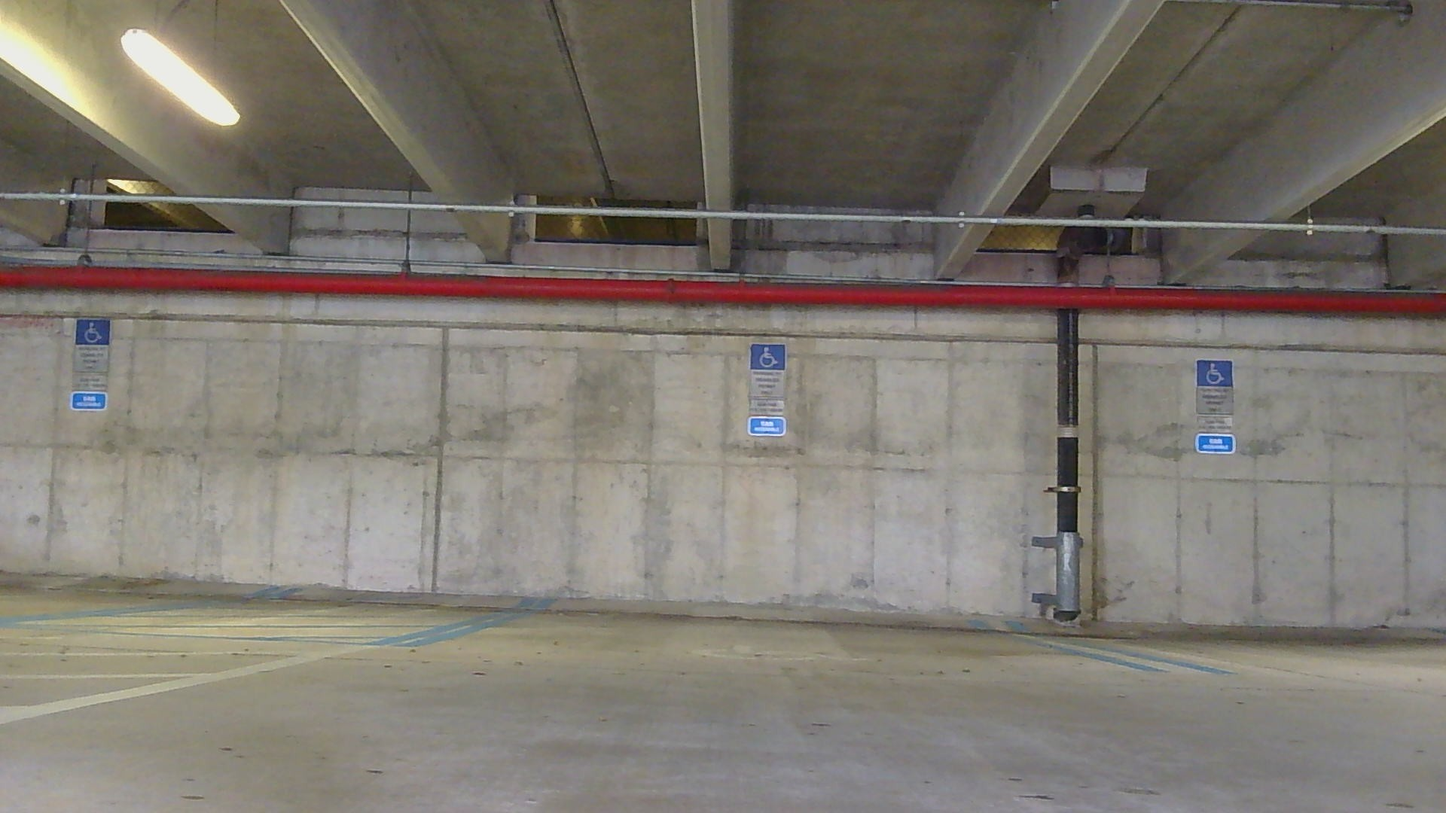empty_spot: (409, 524, 1161, 667), (1020, 554, 1446, 669), (0, 507, 275, 644)
